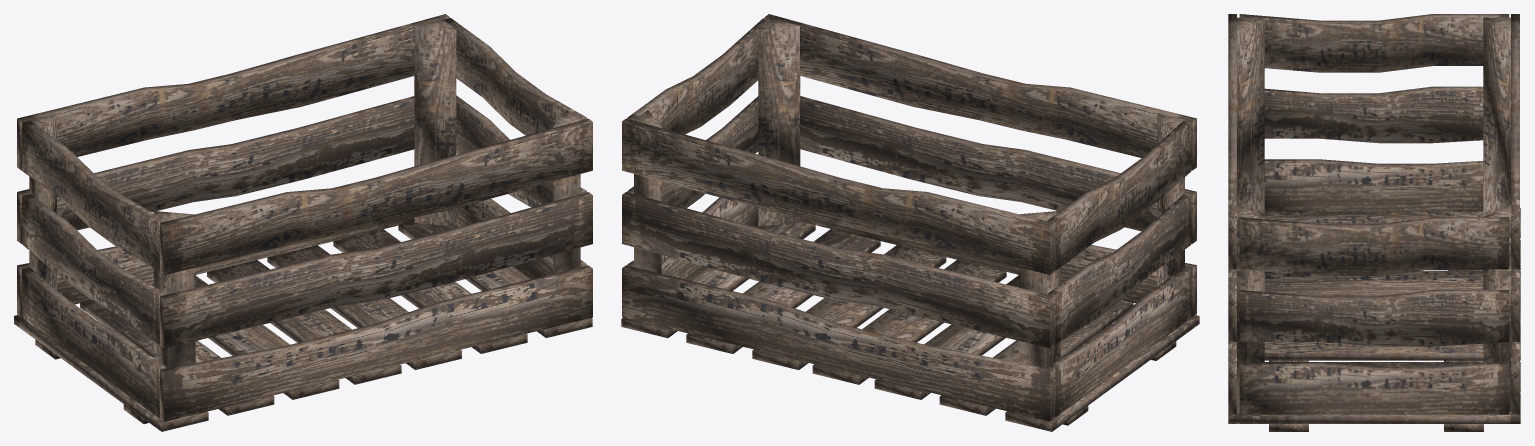
The model's file is crate.fbx.
3 views of the same model, side by side, from view 1: azimuth 30°, elevation 25°; view 2: azimuth 150°, elevation 25°; view 3: azimuth 270°, elevation 25° (orthographic).
Parts seen in each view (by area): view 1: Mesh (2); view 2: Mesh (2); view 3: Mesh (2).
Boxes of the visible parts, <box> form: Mesh (2): <box>14,14,592,431</box>; Mesh (2): <box>621,14,1199,431</box>; Mesh (2): <box>1228,14,1520,431</box>.
Bounding box in the file's own units: 101 × 47.9 × 60.19.
